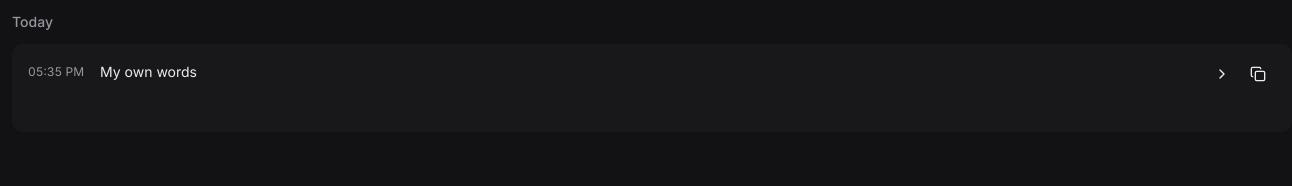
groups transcripts by day and reveals metadata only on selection
Expected: the heading "Today" is shown, [12, 13, 53, 30]
Expected: the text "3 words" is not shown
Click the button named "Show dictation details".
click(1222, 74)  # box [1204, 56, 1240, 92]
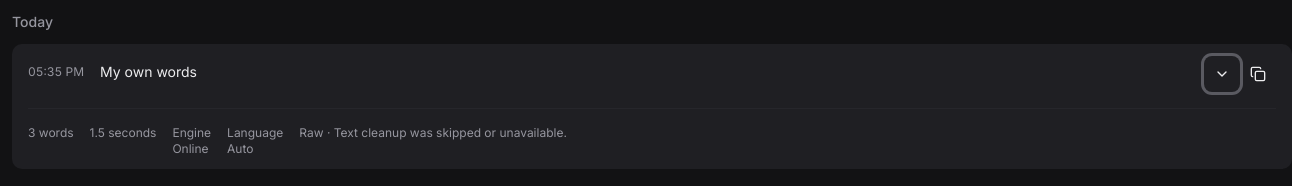
Result: the text "3 words" is shown at [28, 125, 74, 141]
Result: the text "Raw" is shown at [299, 125, 324, 140]
Press Enter
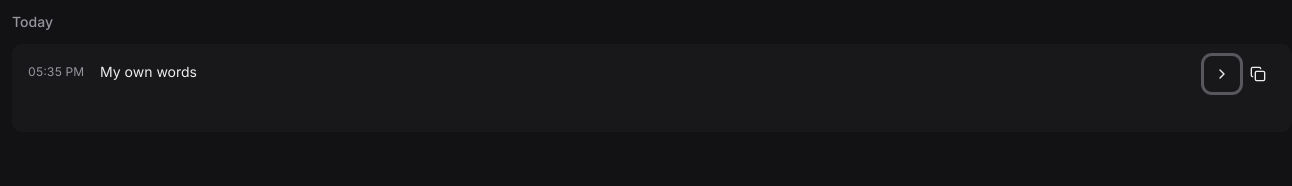
Result: the text "3 words" is gone
